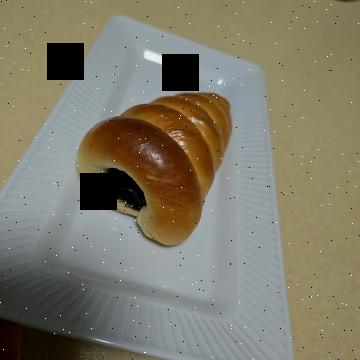cream horn: (82, 114, 274, 287)
